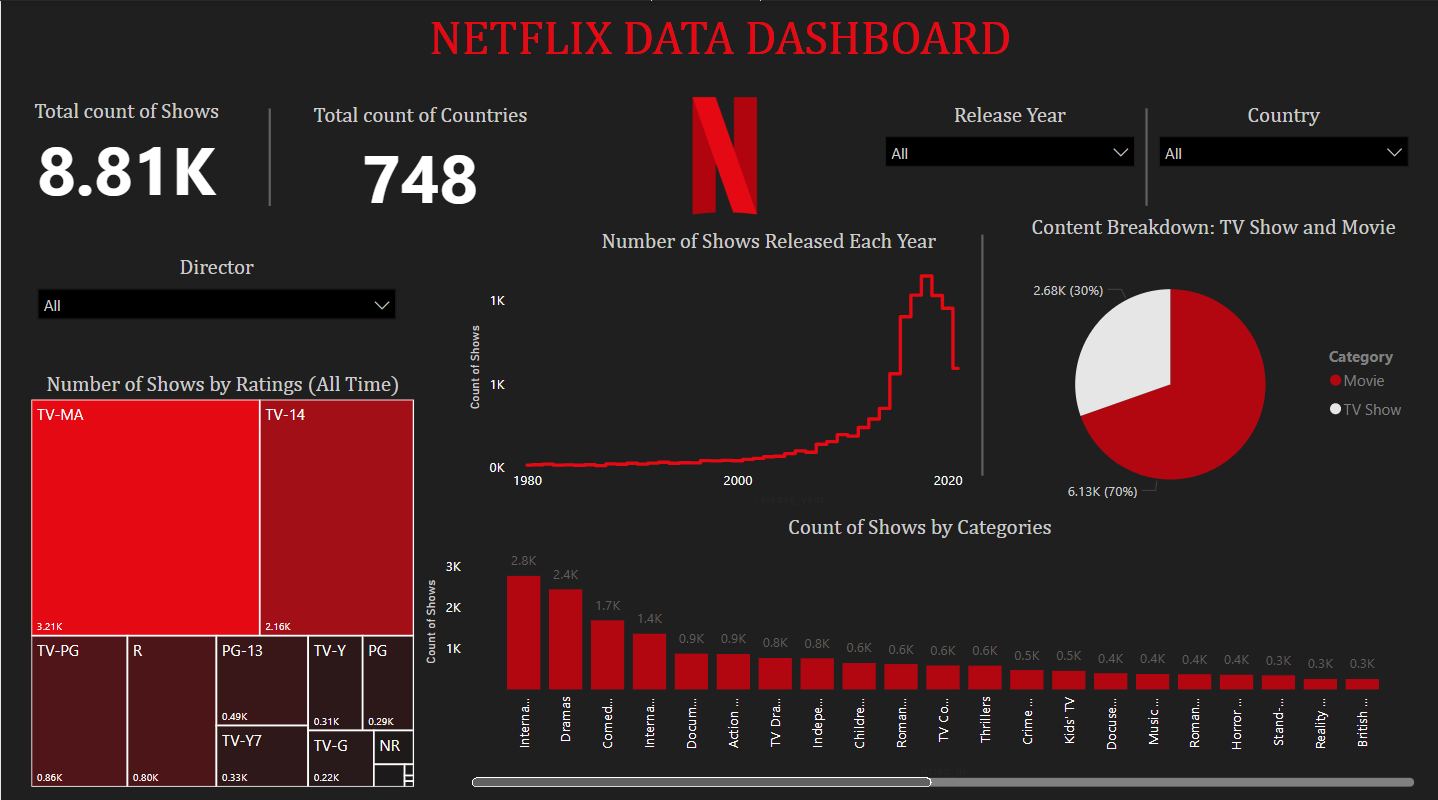

This screenshot's page, from the dashboard's own definition file:
{"tool":"powerbi","page":{"name":"Page 1","canvas":[1280,720],"ordinal":0},"visuals":[{"type":"lineChart","title":"Number of Shows Released Each Year","fields":{"Y":["CountNonNull(netflix_titles.show_id)"],"Category":["netflix_titles.release_year"]},"box":[373.2,199,543.4,255.2],"z":0},{"type":"pieChart","title":"Content Breakdown: TV Show and Movie","fields":{"Y":["CountNonNull(netflix_titles.show_id)"],"Category":["netflix_titles.type"]},"box":[896.1,187,367.3,285],"z":1000},{"type":"slicer","title":"Country","fields":{"Values":["netflix_titles.country"]},"box":[1020.8,86.8,242.7,85.7],"z":2000},{"type":"slicer","title":"Release Year","fields":{"Values":["netflix_titles.release_year"]},"box":[777,86.8,242.7,100.2],"z":3000},{"type":"columnChart","title":"Count of Shows by Categories","fields":{"Category":["Category split.listed_in"],"Y":["CountNonNull(Category split.show_id)"]},"box":[372.9,454.2,890.5,250.5],"z":4000},{"type":"treemap","title":"Number of Shows by Ratings","fields":{"Group":["netflix_titles.rating"],"Values":["CountNonNull(netflix_titles.show_id)"]},"box":[22.3,326.2,350.7,378.5],"z":4002},{"type":"textbox","box":[0,0,1280.3,83.7],"z":4003},{"type":"card","title":"Total count of Shows","fields":{"Values":["CountNonNull(netflix_titles.show_id)"]},"box":[0,83.5,223.7,103.5],"z":4004},{"type":"card","title":"Total count of Countries","fields":{"Values":["Count(netflix_titles.country)"]},"box":[252.7,86.8,241.6,110.2],"z":4005},{"type":"slicer","title":"Director","fields":{"Values":["netflix_titles.director"]},"box":[22.3,222.6,339.5,74.6],"z":4006},{"type":"shape","box":[867.2,208.6,13.7,214.1],"z":4008},{"type":"shape","box":[223.7,95.7,31.2,86.8],"z":4009},{"type":"shape","box":[1003,95.7,34.5,86.8],"z":4010},{"type":"image","box":[543.2,34.5,202.6,205.9],"z":4011}]}

Visuals, with their boxes in screenshot pixels (x1, y1, x2, y2), scaled from the page's 1280x720 canvas onto the 1438x800 screenshot:
"Number of Shows Released Each Year" lineChart: bbox=[419, 221, 1030, 505]
"Content Breakdown: TV Show and Movie" pieChart: bbox=[1007, 208, 1419, 524]
"Country" slicer: bbox=[1147, 96, 1419, 192]
"Release Year" slicer: bbox=[873, 96, 1146, 208]
"Count of Shows by Categories" columnChart: bbox=[419, 505, 1419, 783]
"Number of Shows by Ratings" treemap: bbox=[25, 362, 419, 783]
textbox: bbox=[0, 0, 1437, 93]
"Total count of Shows" card: bbox=[0, 93, 251, 208]
"Total count of Countries" card: bbox=[284, 96, 555, 219]
"Director" slicer: bbox=[25, 247, 406, 330]
shape: bbox=[974, 232, 990, 470]
shape: bbox=[251, 106, 286, 203]
shape: bbox=[1127, 106, 1166, 203]
image: bbox=[610, 38, 838, 267]
